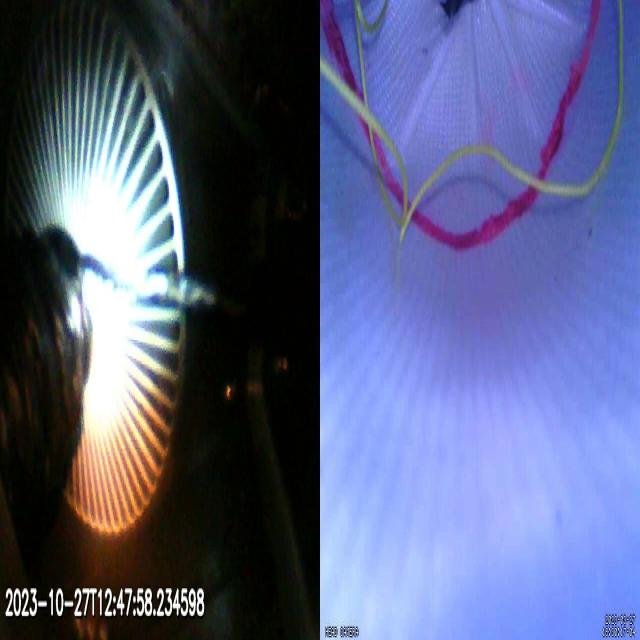red-circle: (320, 0, 602, 250)
